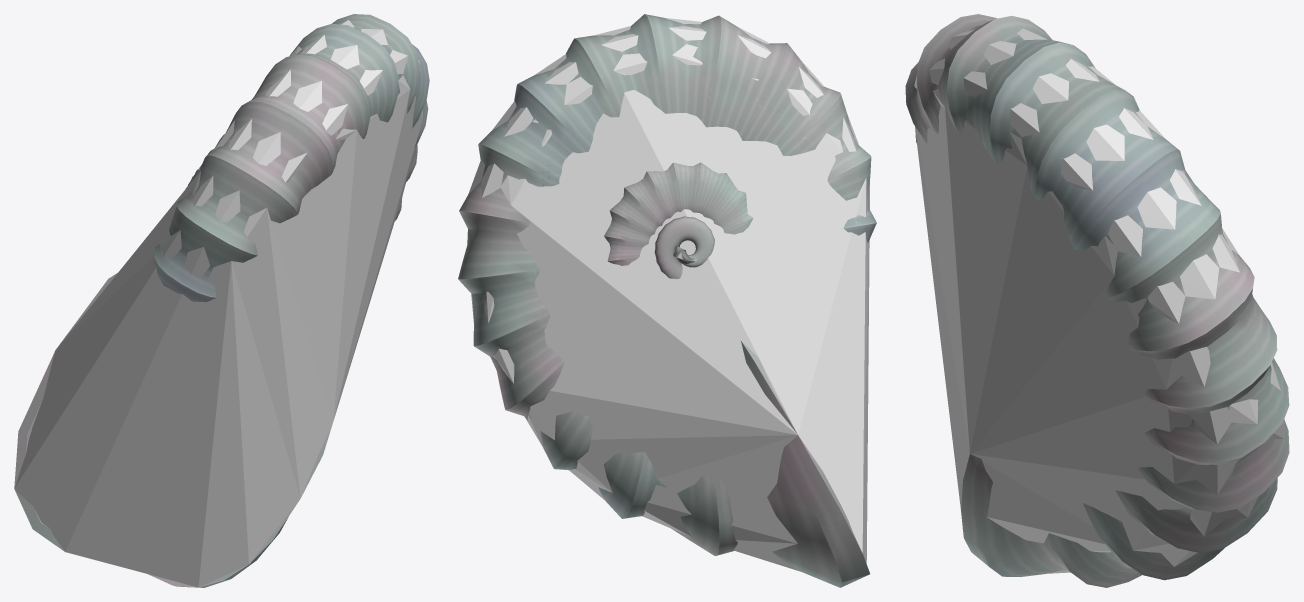
Rendered from shell_3.glb.
The picture shows the model from 3 angles, left to right: view 1: azimuth 30°, elevation 25°; view 2: azimuth 150°, elevation 25°; view 3: azimuth 270°, elevation 25°; orthographic projection. The views are drawn at different scales.
Parts seen in each view (by area): view 1: shell_3_hull_col, shell_3; view 2: shell_3_hull_col, shell_3; view 3: shell_3_hull_col, shell_3.
Boxes of the visible parts, bbox=[...] form: shell_3_hull_col: bbox=[14, 20, 423, 587]; shell_3: bbox=[14, 14, 429, 587]; shell_3_hull_col: bbox=[468, 17, 869, 571]; shell_3: bbox=[458, 14, 876, 587]; shell_3_hull_col: bbox=[914, 21, 1283, 573]; shell_3: bbox=[905, 14, 1289, 587].
Bounding box in the file's own units: 13.8 × 17 × 9.53.
Materials: 2 (2 with a texture image).
